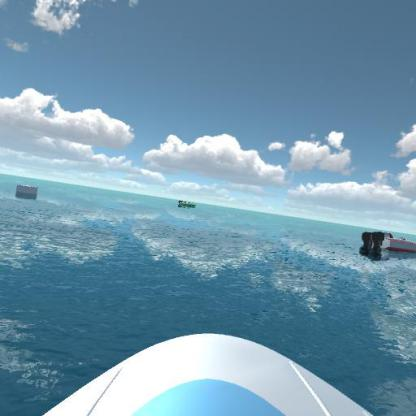usv0: (353, 223, 415, 258), (174, 196, 200, 213)
